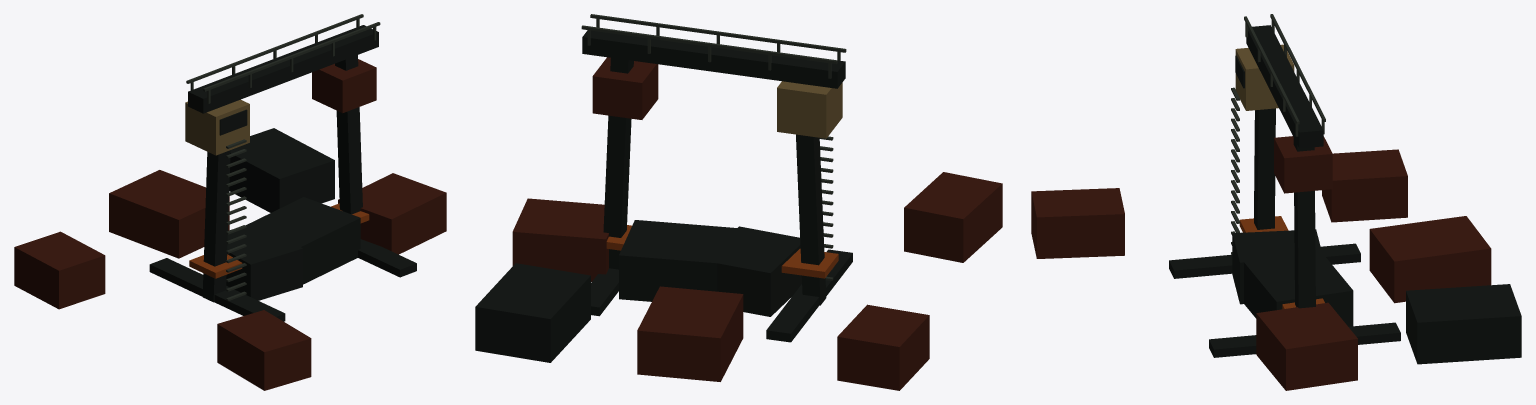
The model's file is landmark_cargo_crane.obj.
The picture shows the model from 3 angles, left to right: view 1: azimuth 30°, elevation 25°; view 2: azimuth 150°, elevation 25°; view 3: azimuth 270°, elevation 25°; orthographic projection. The views are drawn at different scales.
Parts seen in each view (by area): view 1: MilitaryStructure6, redStructure_0022, metalStructure_0022, redStructure_0032, redStructure_0012, metalStructure_0032, redStructure_0042, metalStructure_0006, metalStructure_0013, ironStructure_0006, ironStructure_0015, redStructure_0005; view 2: MilitaryStructure6, metalStructure_0022, redStructure_0022, metalStructure_0032, redStructure_0032, redStructure_0012, metalStructure_0006, redStructure_0042, metalStructure_0013, ironStructure_0006, ironStructure_0015, redStructure_0005; view 3: MilitaryStructure6, metalStructure_0022, redStructure_0022, redStructure_0042, redStructure_0032, redStructure_0012, metalStructure_0032, metalStructure_0006, redStructure_0005, ironStructure_0015, ironStructure_0006, metalStructure_0013.
Part boxes in pixels (<box>): MilitaryStructure6: <box>149,14,416,321</box>; redStructure_0022: <box>109,170,229,258</box>; metalStructure_0022: <box>229,128,334,212</box>; redStructure_0032: <box>217,310,311,390</box>; redStructure_0012: <box>14,231,105,309</box>; metalStructure_0032: <box>243,197,360,284</box>; redStructure_0042: <box>338,173,446,254</box>; metalStructure_0006: <box>188,25,378,113</box>; metalStructure_0013: <box>226,223,302,300</box>; ironStructure_0006: <box>202,150,230,302</box>; ironStructure_0015: <box>335,55,362,214</box>; redStructure_0005: <box>312,59,376,113</box>; MilitaryStructure6: <box>581,14,852,342</box>; metalStructure_0022: <box>475,263,590,362</box>; redStructure_0022: <box>637,286,743,381</box>; metalStructure_0032: <box>619,220,742,301</box>; redStructure_0032: <box>904,172,1002,262</box>; redStructure_0012: <box>837,304,929,390</box>; metalStructure_0006: <box>582,30,845,88</box>; redStructure_0042: <box>512,198,608,281</box>; metalStructure_0013: <box>703,226,801,316</box>; ironStructure_0006: <box>796,134,826,305</box>; ironStructure_0015: <box>603,58,633,269</box>; redStructure_0005: <box>592,57,658,119</box>; MilitaryStructure6: <box>1169,14,1400,357</box>; metalStructure_0022: <box>1406,284,1521,364</box>; redStructure_0022: <box>1369,216,1491,303</box>; redStructure_0042: <box>1256,302,1357,390</box>; redStructure_0032: <box>1031,188,1124,258</box>; redStructure_0012: <box>1322,149,1407,222</box>; metalStructure_0032: <box>1244,248,1353,326</box>; metalStructure_0006: <box>1246,25,1323,148</box>; redStructure_0005: <box>1274,136,1332,193</box>; ironStructure_0015: <box>1293,138,1315,308</box>; ironStructure_0006: <box>1254,108,1275,229</box>; metalStructure_0013: <box>1232,229,1321,304</box>.
Size of the model in its own units: 13.37 by 7.4 by 13.86.
